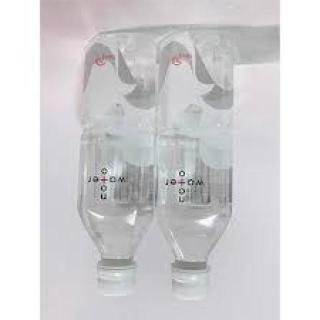Anorganik: (158, 26, 240, 306), (79, 31, 153, 304)
